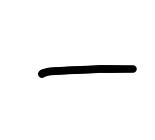minus: (38, 64, 137, 79)
